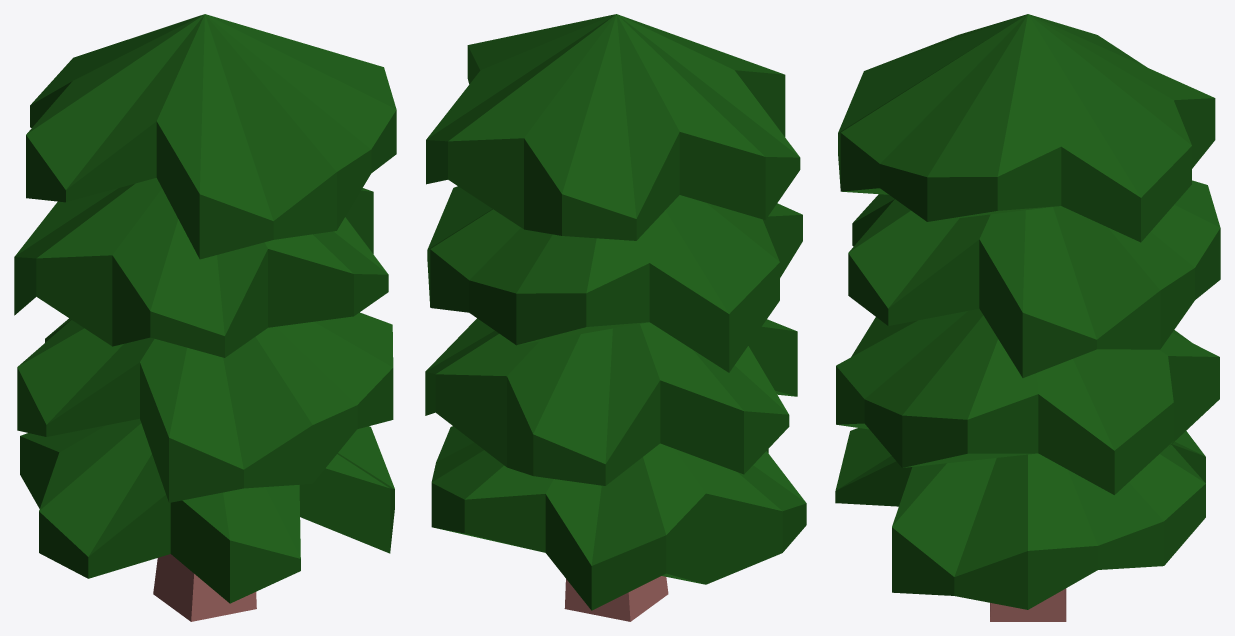
The model's file is Low Poly Pine Tree.fbx.
The picture shows the model from 3 angles, left to right: view 1: azimuth 30°, elevation 25°; view 2: azimuth 150°, elevation 25°; view 3: azimuth 270°, elevation 25°; orthographic projection.
Parts seen in each view (by area): view 1: Leaf Canopy.003, Leaf Canopy.001, Leaf Canopy.002, Leaf Canopy, Pine Tree; view 2: Leaf Canopy.003, Leaf Canopy.001, Leaf Canopy.002, Leaf Canopy, Pine Tree; view 3: Leaf Canopy.003, Leaf Canopy.002, Leaf Canopy.001, Leaf Canopy, Pine Tree.
Part boxes in pixels (bbox=[...]): Leaf Canopy.003: bbox=[26, 14, 396, 259]; Leaf Canopy.001: bbox=[17, 312, 393, 502]; Leaf Canopy.002: bbox=[14, 178, 388, 357]; Leaf Canopy: bbox=[20, 418, 394, 603]; Pine Tree: bbox=[153, 554, 256, 621]; Leaf Canopy.003: bbox=[426, 14, 800, 240]; Leaf Canopy.001: bbox=[425, 318, 797, 485]; Leaf Canopy.002: bbox=[427, 186, 802, 372]; Leaf Canopy: bbox=[431, 426, 806, 610]; Pine Tree: bbox=[564, 576, 668, 621]; Leaf Canopy.003: bbox=[838, 14, 1215, 242]; Leaf Canopy.002: bbox=[848, 180, 1220, 377]; Leaf Canopy.001: bbox=[836, 308, 1219, 494]; Leaf Canopy: bbox=[835, 428, 1205, 609]; Pine Tree: bbox=[990, 588, 1066, 621].
Size of the model in its own units: 7 by 7 by 11.87.
